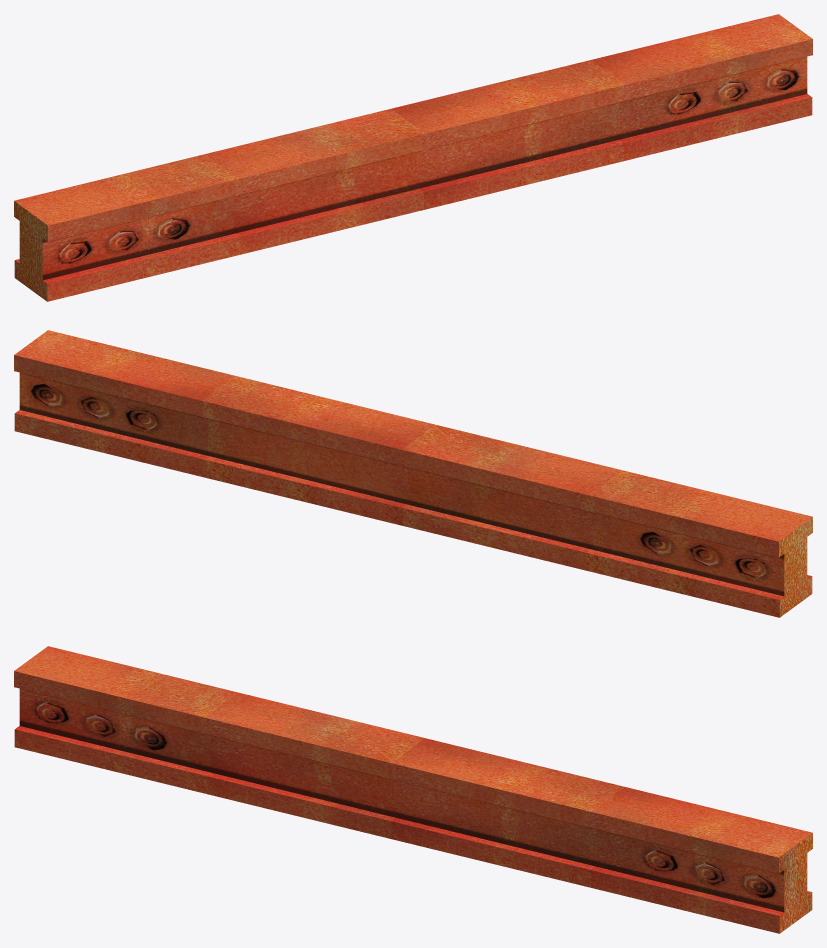
File: tekkotu.obj
3 renders of one model, top to bottom at view 1: azimuth 30°, elevation 25°; view 2: azimuth 150°, elevation 25°; view 3: azimuth 330°, elevation 25°, orthographic.
Size of the model in its own units: 21.09 by 2.02 by 1.63.
1 material, 1 textured.
